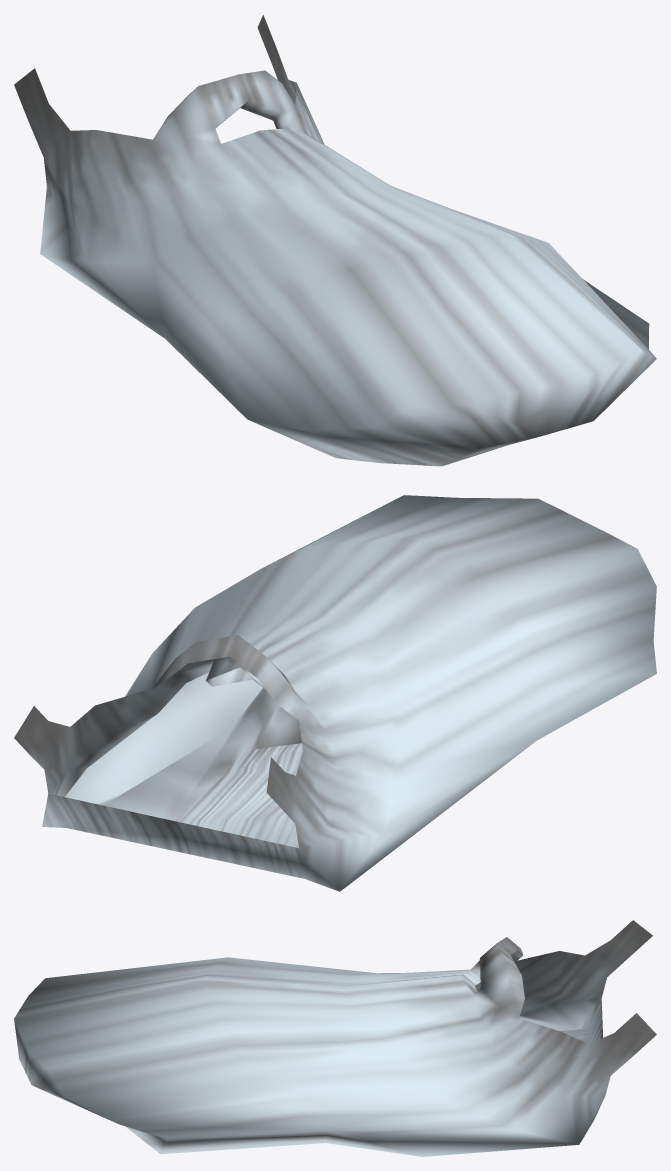
Rendered from WorldItem_SantaBeard.fbx.
The picture shows the model from 3 angles, top to bottom: view 1: azimuth 30°, elevation 25°; view 2: azimuth 150°, elevation 25°; view 3: azimuth 270°, elevation 25°; orthographic projection. The views are drawn at different scales.
Visible parts, largest first — view 1: Bob_Beard_Long; view 2: Bob_Beard_Long; view 3: Bob_Beard_Long.
Part boxes in pixels (x1,y1,x2,y2): Bob_Beard_Long: (14,15,656,466); Bob_Beard_Long: (14,495,656,891); Bob_Beard_Long: (14,920,656,1156).
Size of the model in its own units: 0.1804 by 0.0888 by 0.3126.
